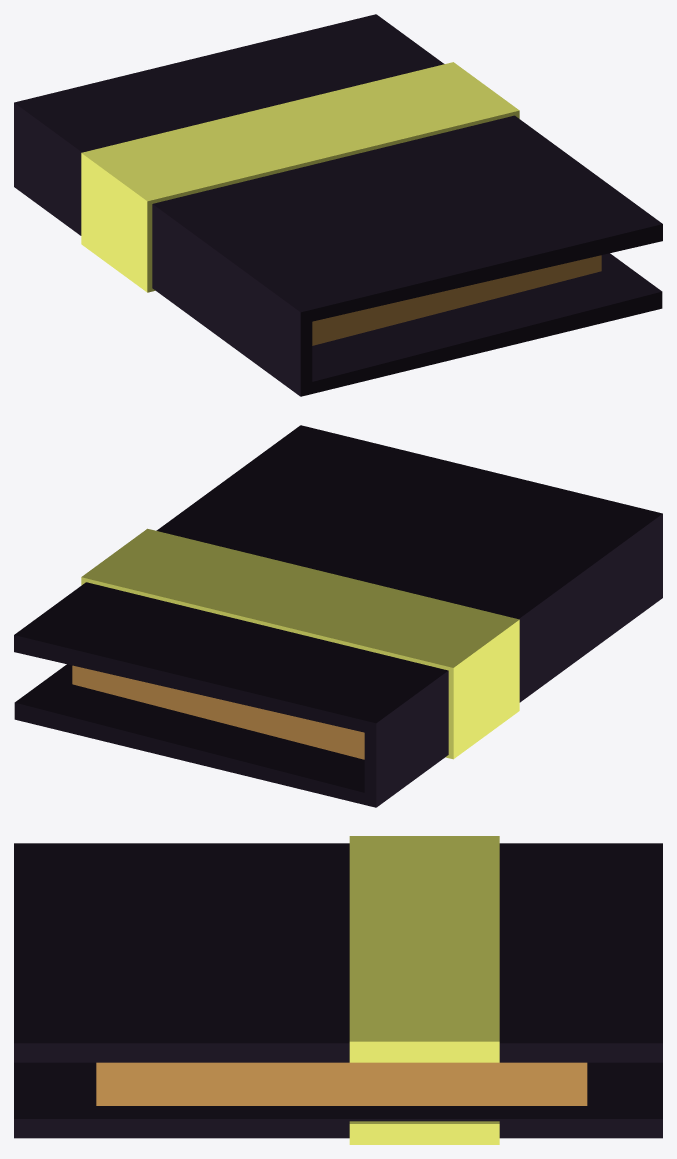
File: Book 15.fbx
3 views of the same model, one above another, from view 1: azimuth 30°, elevation 25°; view 2: azimuth 150°, elevation 25°; view 3: azimuth 270°, elevation 25° (orthographic). The views are drawn at different scales.
Parts seen in each view (by area): view 1: Node 0; view 2: Node 0; view 3: Node 0.
Part boxes in pixels (<box>): Node 0: <box>14,14,662,396</box>; Node 0: <box>14,425,662,807</box>; Node 0: <box>14,836,662,1144</box>.
Bounding box in the file's own units: 0.3165 × 0.0557 × 0.2373.
